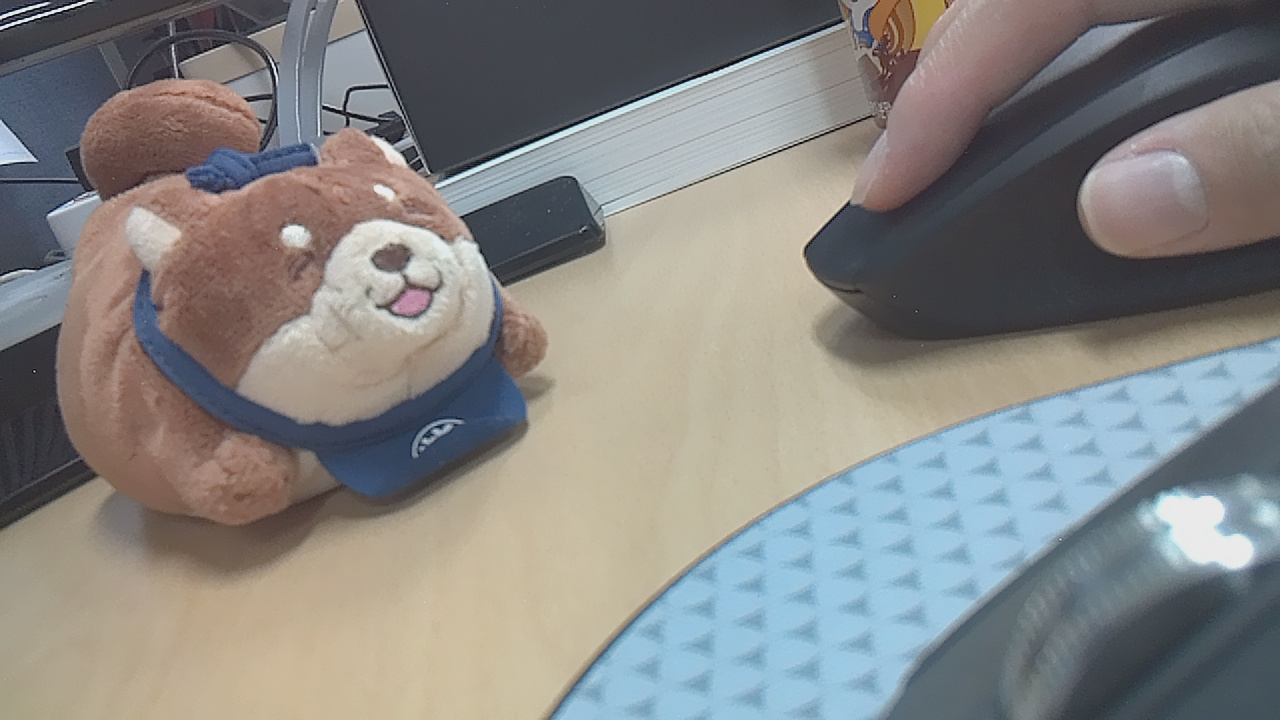cuteDog: (9, 46, 596, 498)
